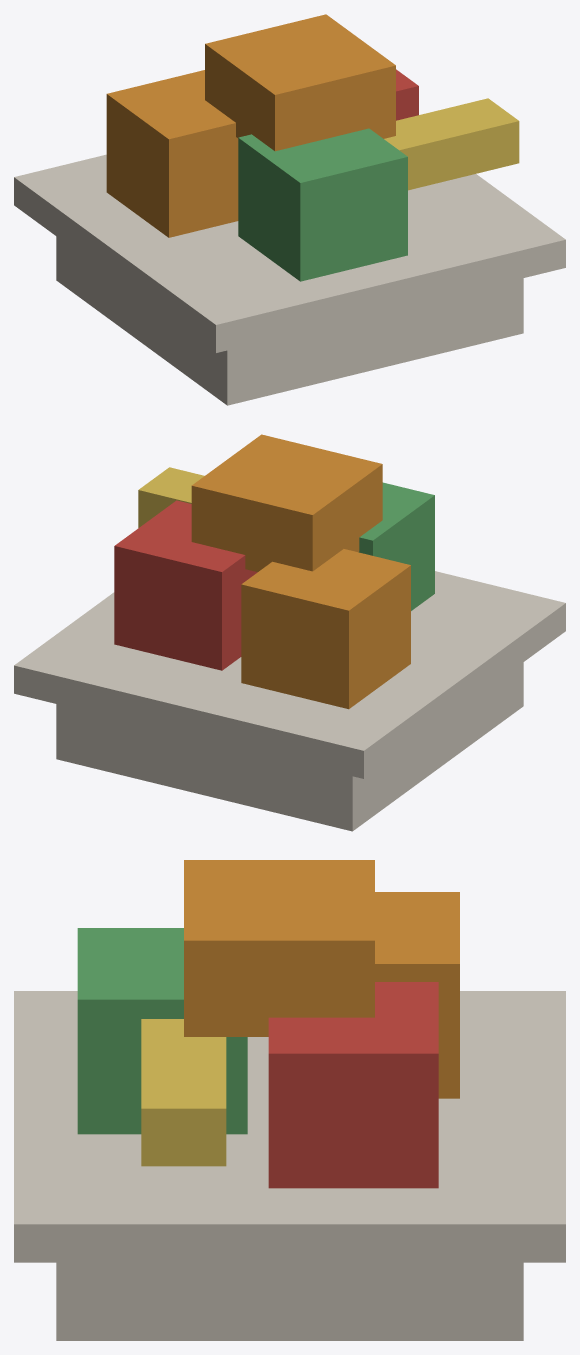
Rendered from ncb-fruit-bowl.glb.
3 renders of one model, top to bottom at view 1: azimuth 30°, elevation 25°; view 2: azimuth 150°, elevation 25°; view 3: azimuth 270°, elevation 25°, orthographic. The views are drawn at different scales.
Parts seen in each view (by area): view 1: box-prop; view 2: box-prop; view 3: box-prop.
Part boxes in pixels (x1=…): box-prop: x1=14, y1=14, x2=565, y2=405; box-prop: x1=14, y1=434, x2=565, y2=831; box-prop: x1=14, y1=860, x2=565, y2=1340.
Bounding box in the file's own units: 0.52 × 0.36 × 0.52.
